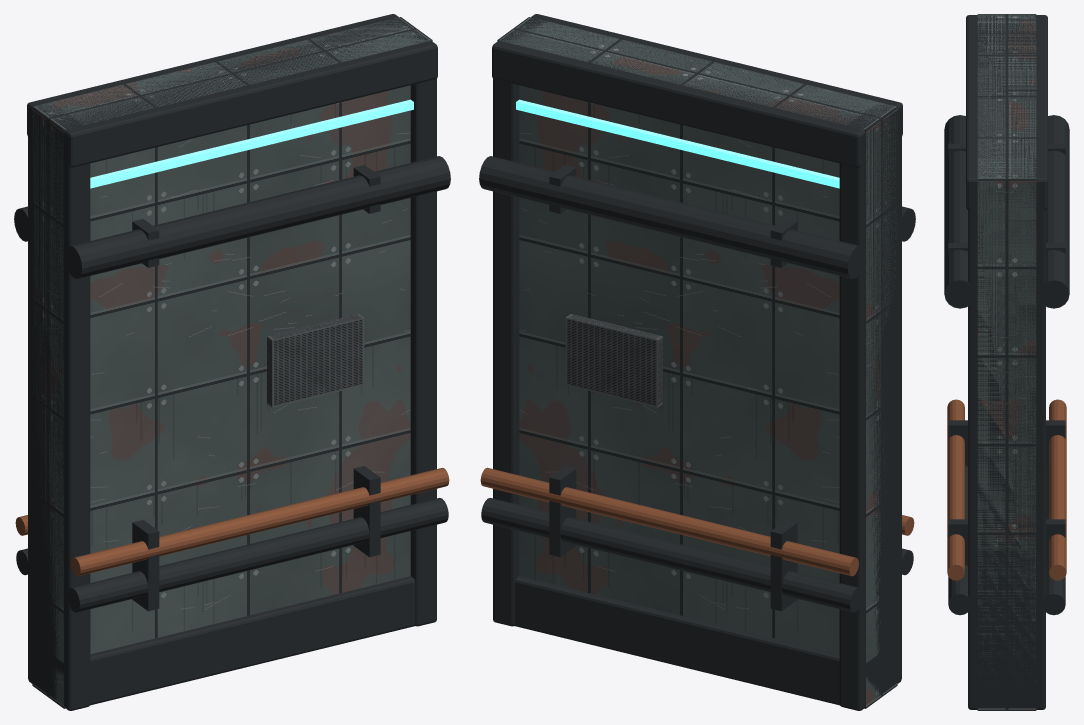
File: wall_pipes.glb
The picture shows the model from 3 angles, left to right: view 1: azimuth 30°, elevation 25°; view 2: azimuth 150°, elevation 25°; view 3: azimuth 270°, elevation 25°; orthographic projection. The views are drawn at different scales.
Parts seen in each view (by area): view 1: wall_pipes; view 2: wall_pipes; view 3: wall_pipes.
Part boxes in pixels (x1,y1,x2,y2): wall_pipes: (14, 14, 450, 710); wall_pipes: (479, 14, 915, 710); wall_pipes: (944, 14, 1069, 710).
Bounding box in the file's own units: 2 × 3 × 0.64.
5 materials, 2 textured.
